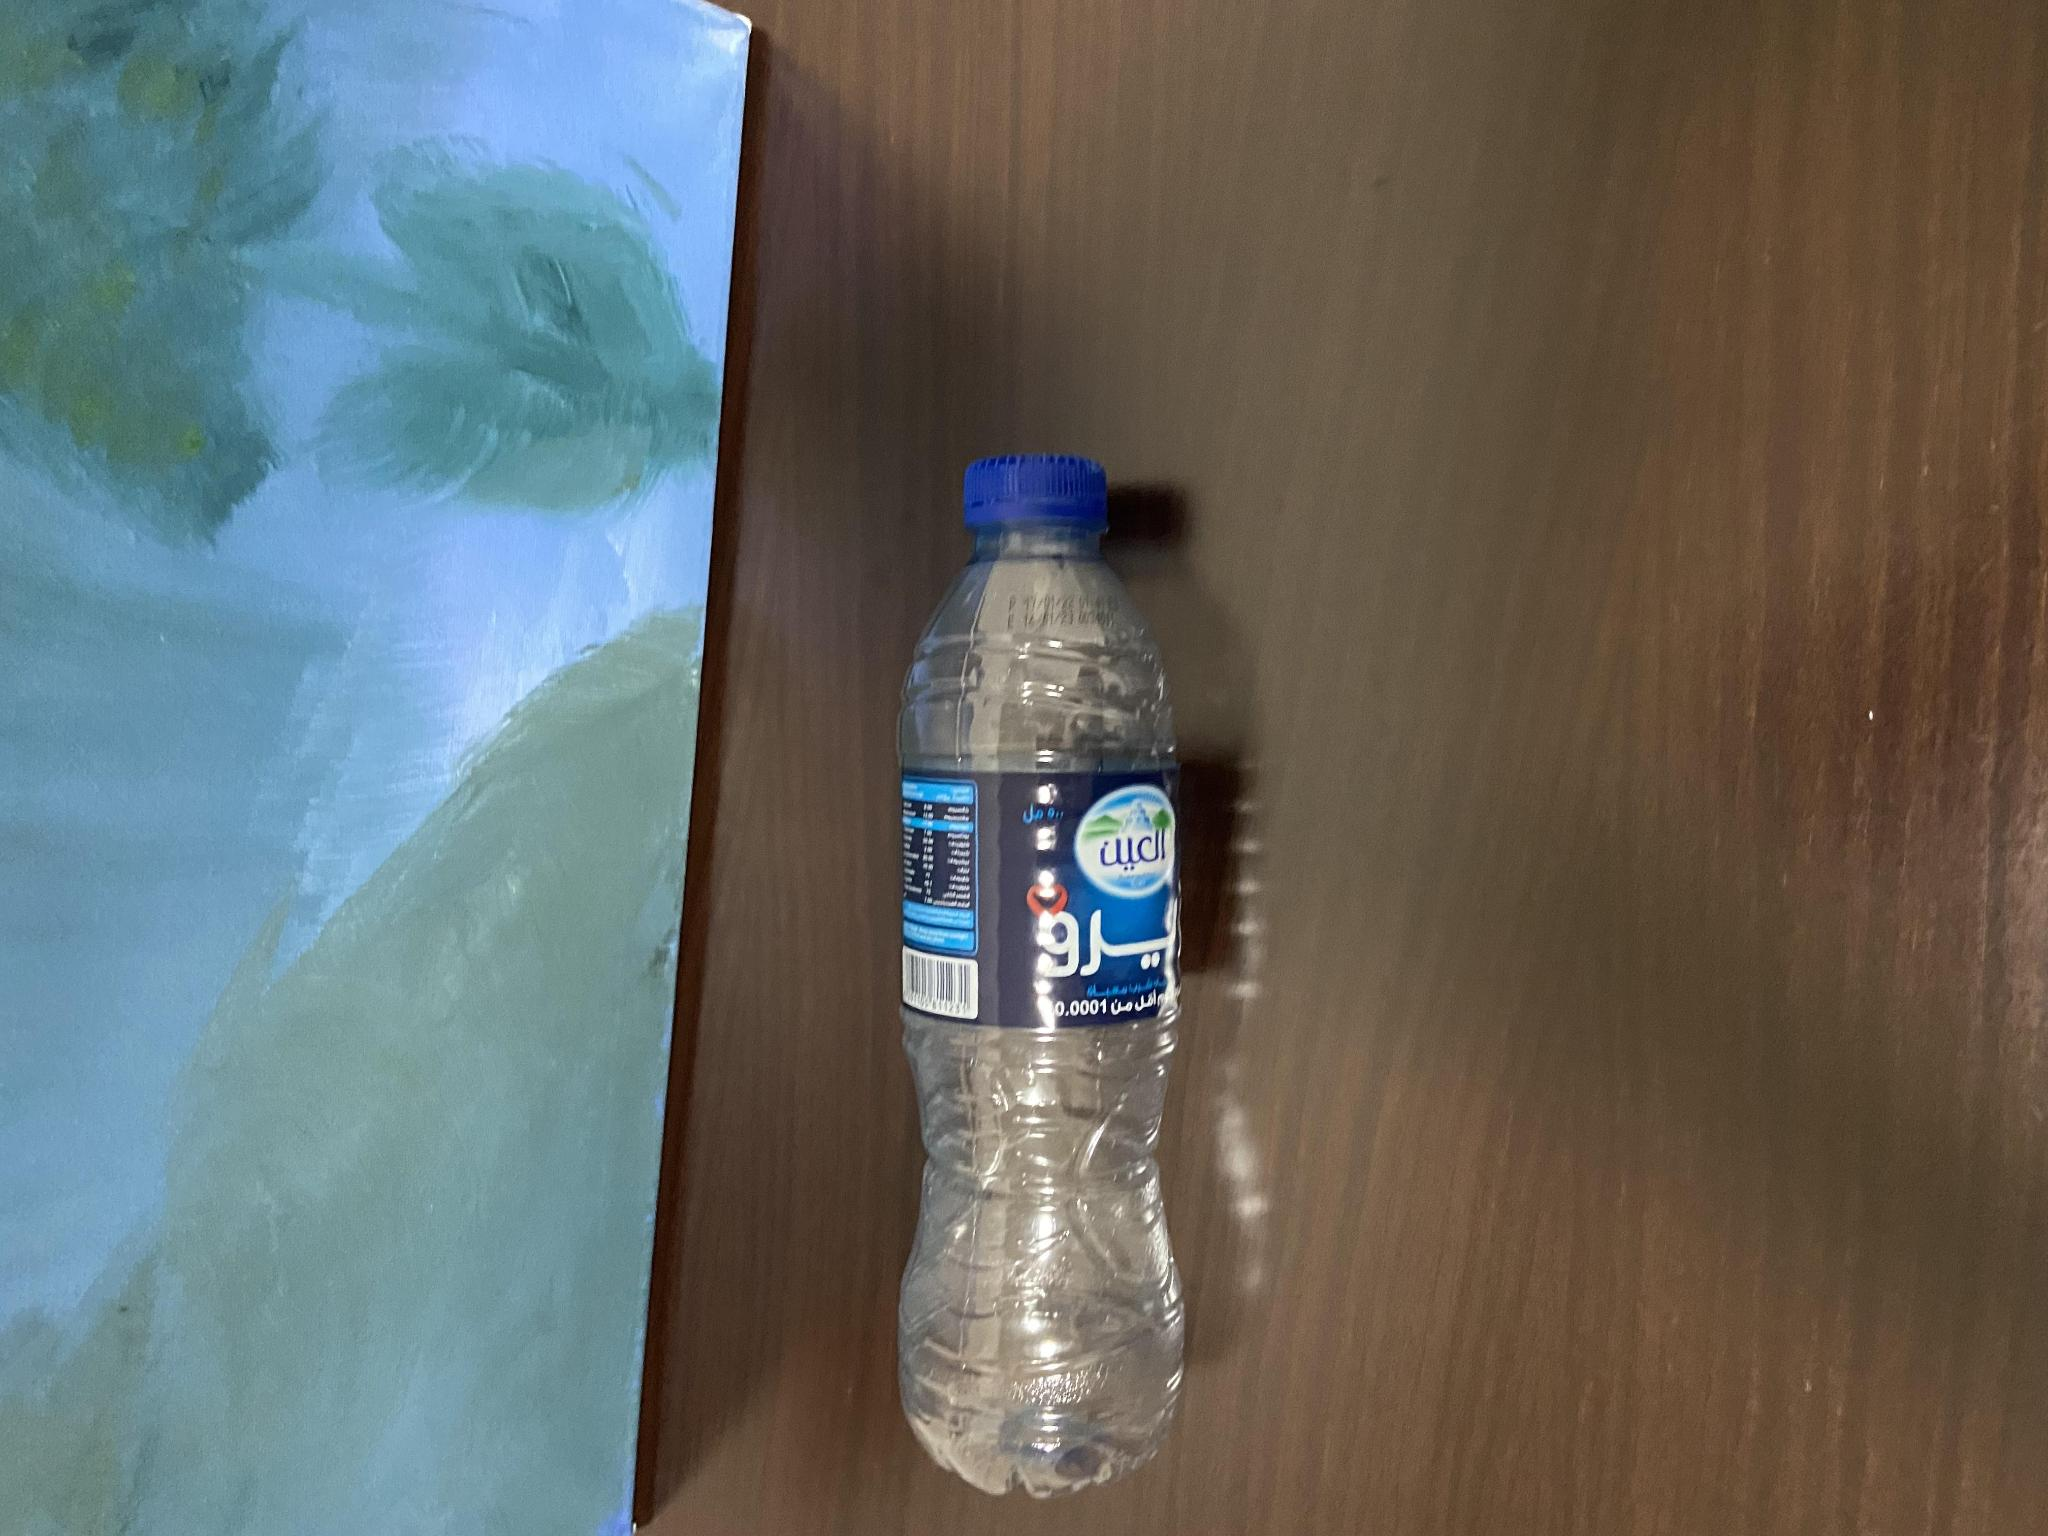bottle: (879, 453, 1205, 1505)
